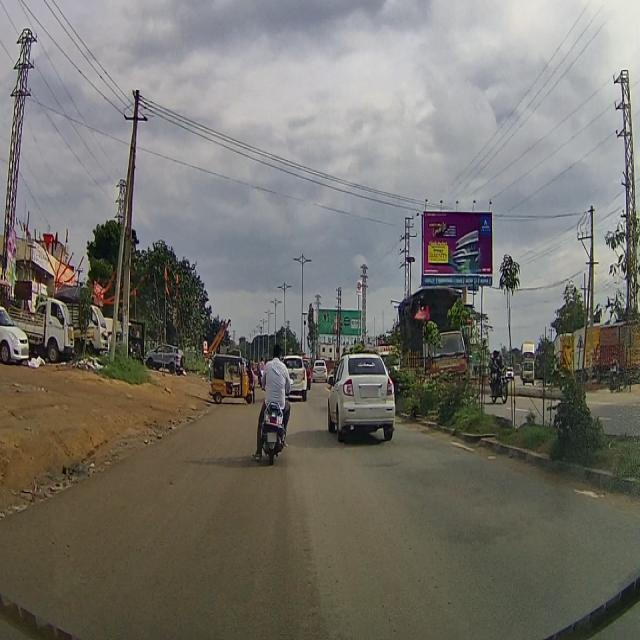car ahead at: (324, 344, 403, 449)
electric pole ahead at: (105, 74, 146, 374)
motorcycle ahead at: (256, 401, 290, 468)
